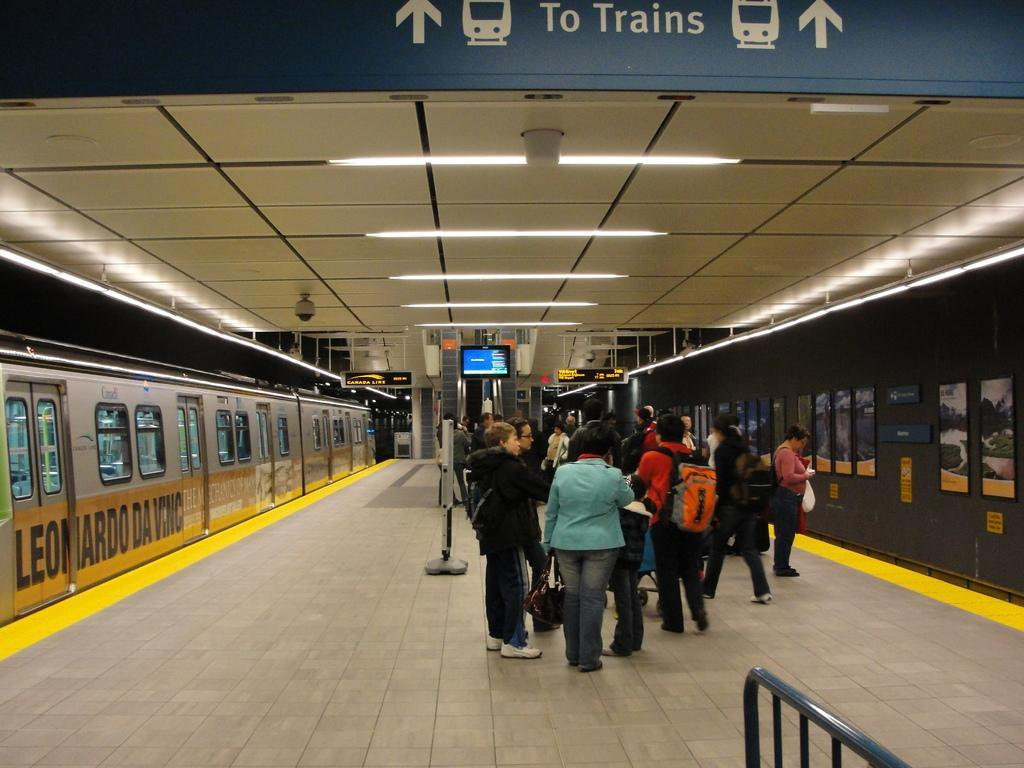door: (6, 372, 74, 604), (172, 388, 212, 546), (254, 402, 279, 512)
